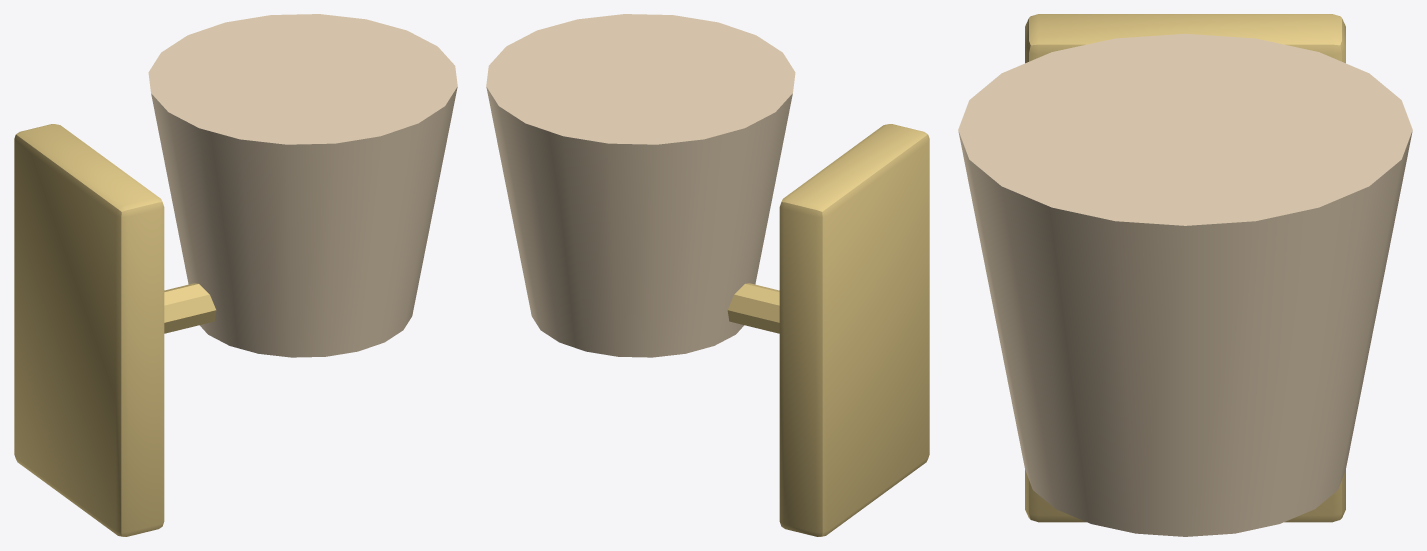
The model's file is SM_Sconce.fbx.
3 views of the same model, side by side, from view 1: azimuth 30°, elevation 25°; view 2: azimuth 150°, elevation 25°; view 3: azimuth 270°, elevation 25° (orthographic). The views are drawn at different scales.
Parts seen in each view (by area): view 1: SM_Sconce; view 2: SM_Sconce; view 3: SM_Sconce.
Boxes of the visible parts, left/top/right/bottom form: SM_Sconce: left=14, top=14, right=457, bottom=536; SM_Sconce: left=486, top=14, right=929, bottom=536; SM_Sconce: left=958, top=14, right=1412, bottom=536.
Bounding box in the file's own units: 23.5 × 22 × 17.
